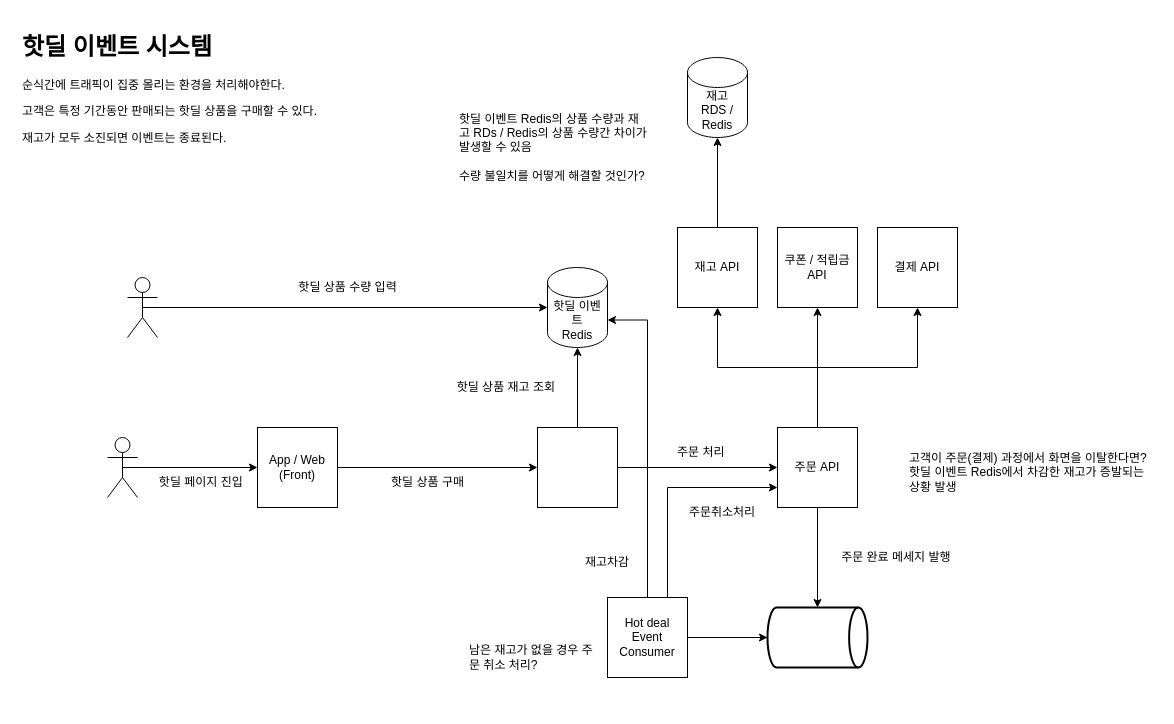
The diagram is 1174 pixels wide and 724 high, and some of its shapes have lost their labels. The shapes that lost their labels are listed below. From the top down, each one's box as (x1, y1, x2, y2) in pixels, then its label:
(126, 276, 158, 338): 관리자
(106, 436, 138, 498): 고객
(536, 426, 618, 508): Hot deal Event Api
(766, 606, 868, 668): Kafka
